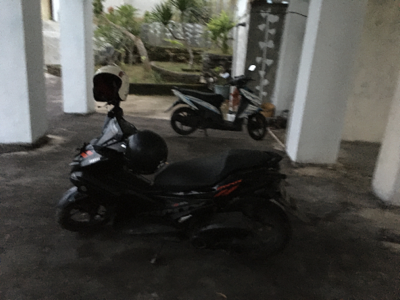moto: (55, 105, 302, 261), (165, 73, 268, 147)
